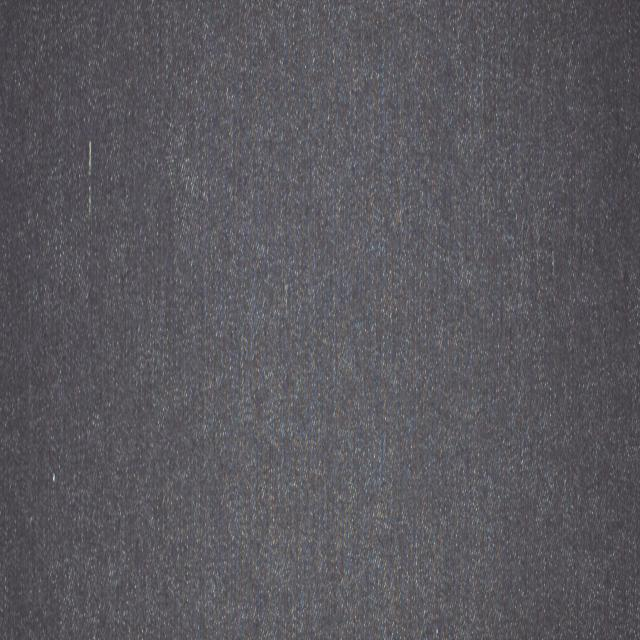pulled_or_thick_thread: (85, 129, 95, 228)
